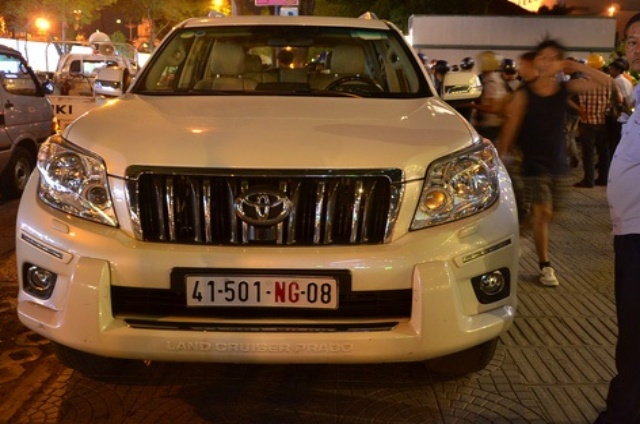plate: (182, 268, 341, 310)
